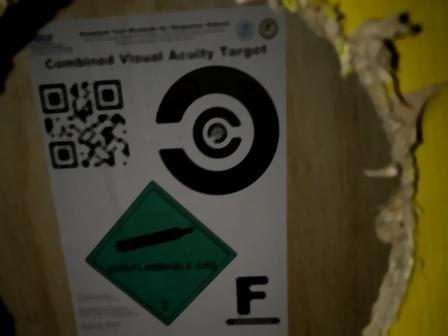non-flammable-gas: (86, 183, 238, 328)
